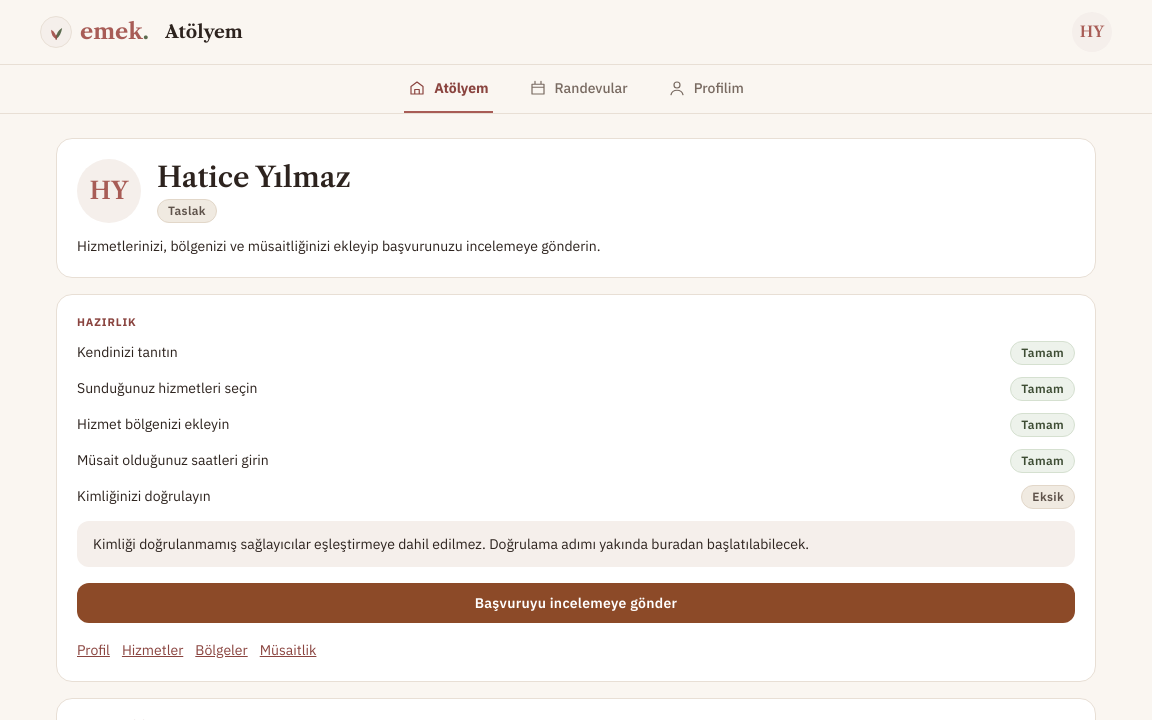
Test: Sağlayıcı paneli — hazırlık › hazır profil başvuruyu gönderir ve oturumu yeniler; yanıt bekleyen randevu listelenir
Step 1. Click the button "Başvuruyu incelemeye gönder" → (576, 603), box [77,583,1075,623]
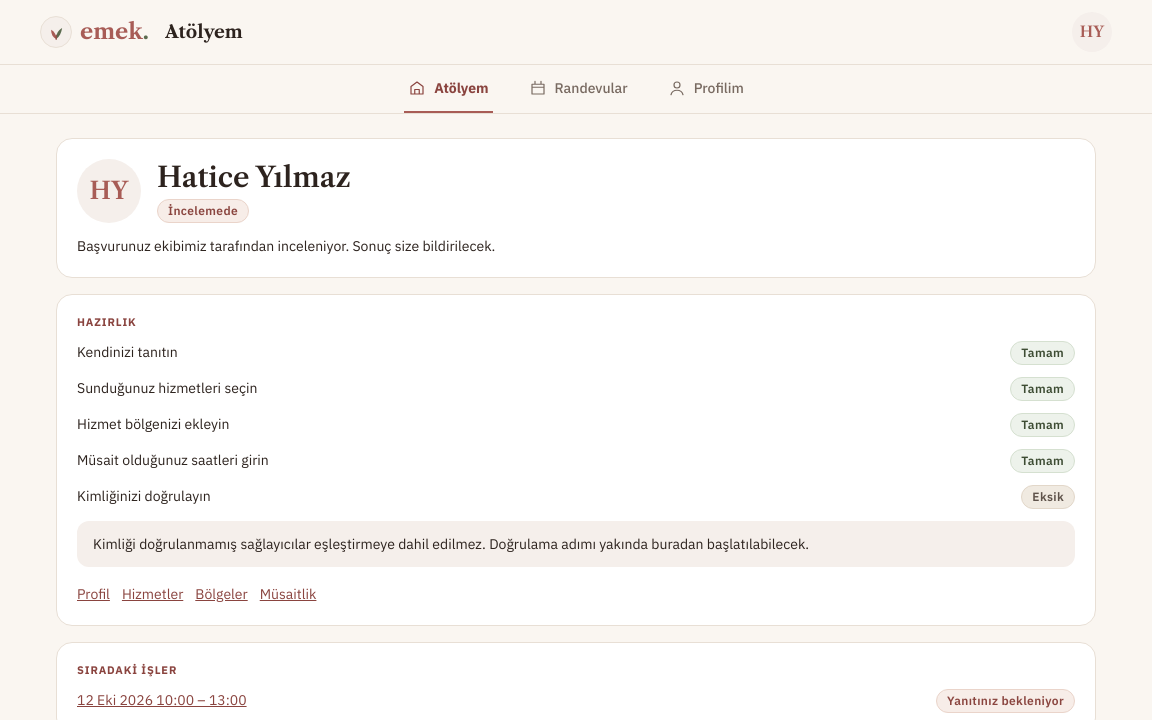
Check: the text "Yanıtınız bekleniyor" is shown once, box [936,689,1075,713]
Check: the text "İncelemede" is shown, box [157,199,249,223]
